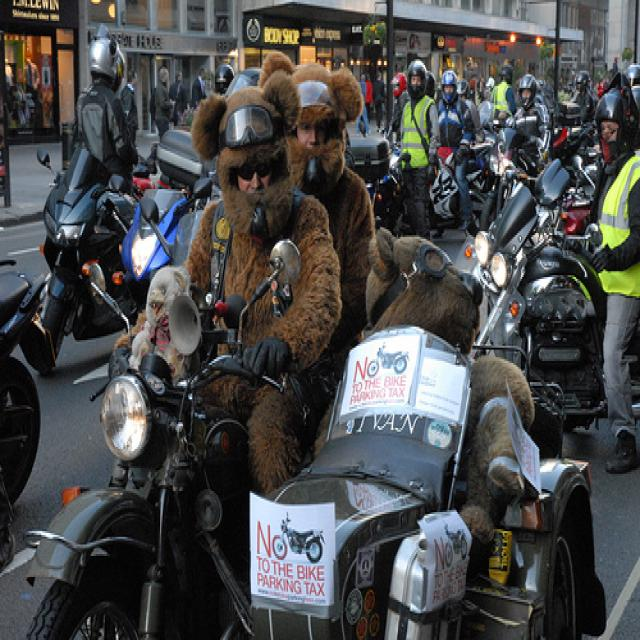motor: (19, 238, 306, 632), (466, 186, 608, 424), (20, 149, 128, 370), (2, 273, 50, 577), (107, 175, 213, 312), (479, 125, 540, 232), (431, 144, 492, 241), (534, 154, 597, 234), (377, 128, 416, 235)
